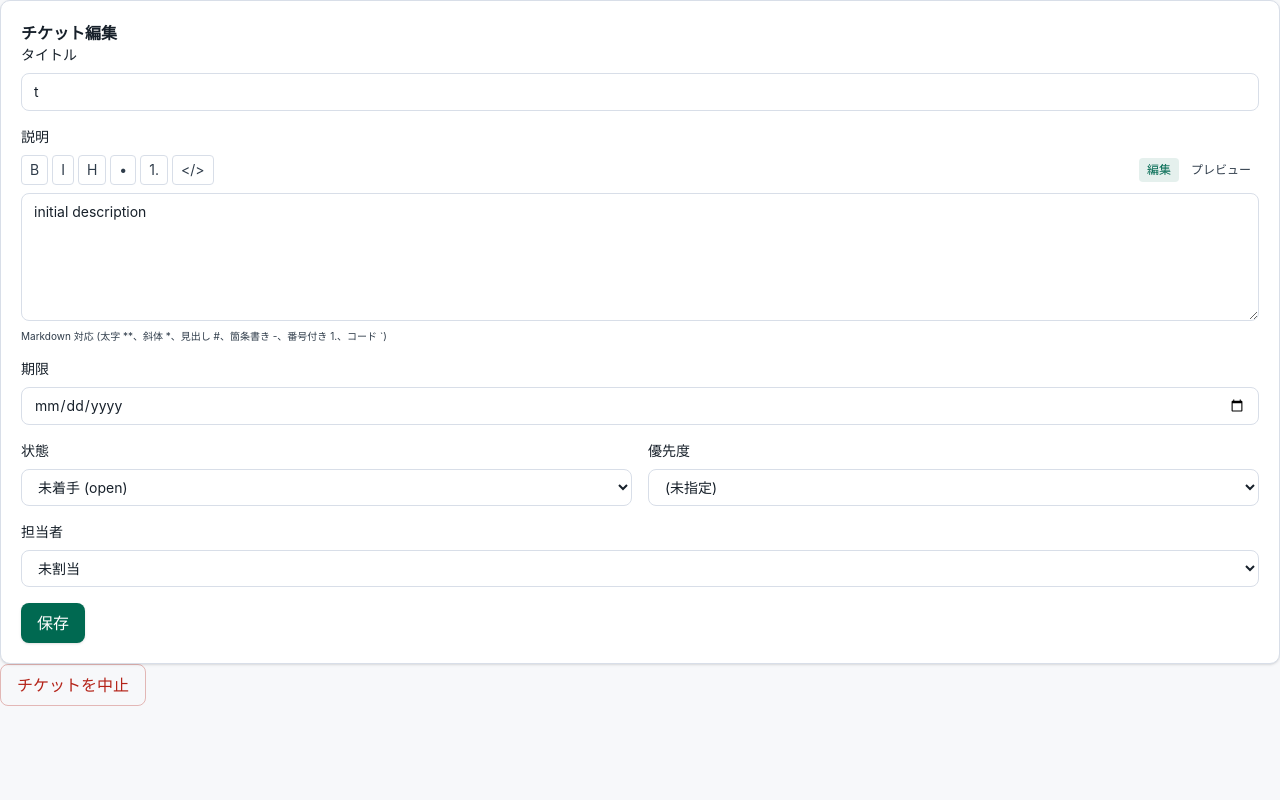
TicketDeleteButton (R3 F-2: pre-commit gate) › R14: 承認後に draft を編集 (in-flight) → commit skip → 遷移前再確認を拒否で router.push しない
The width and height of the screenshot is (1280, 800).
Replace the text in the text box named "説明" with "approved draft" at (640, 257), box [21,193,1259,321]
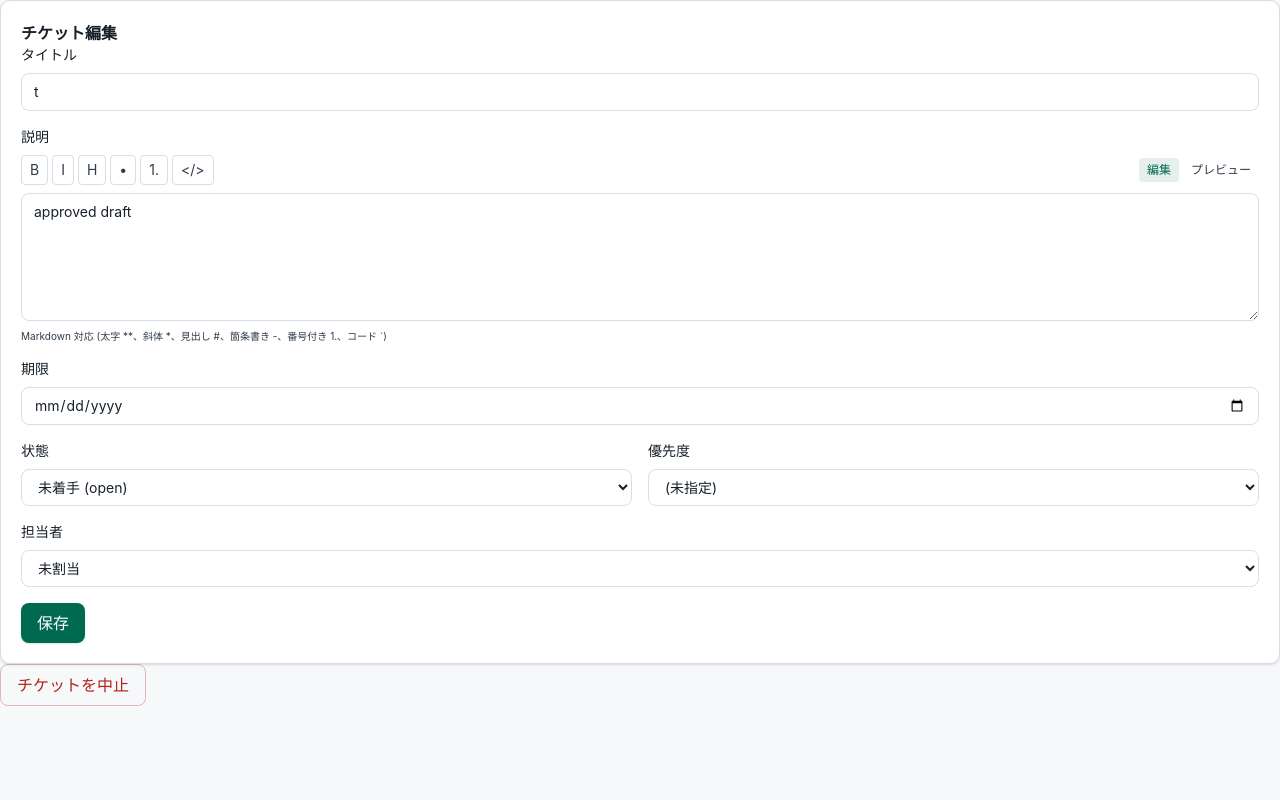
Click the button "チケットを中止" at (73, 685), box [0,664,146,706]
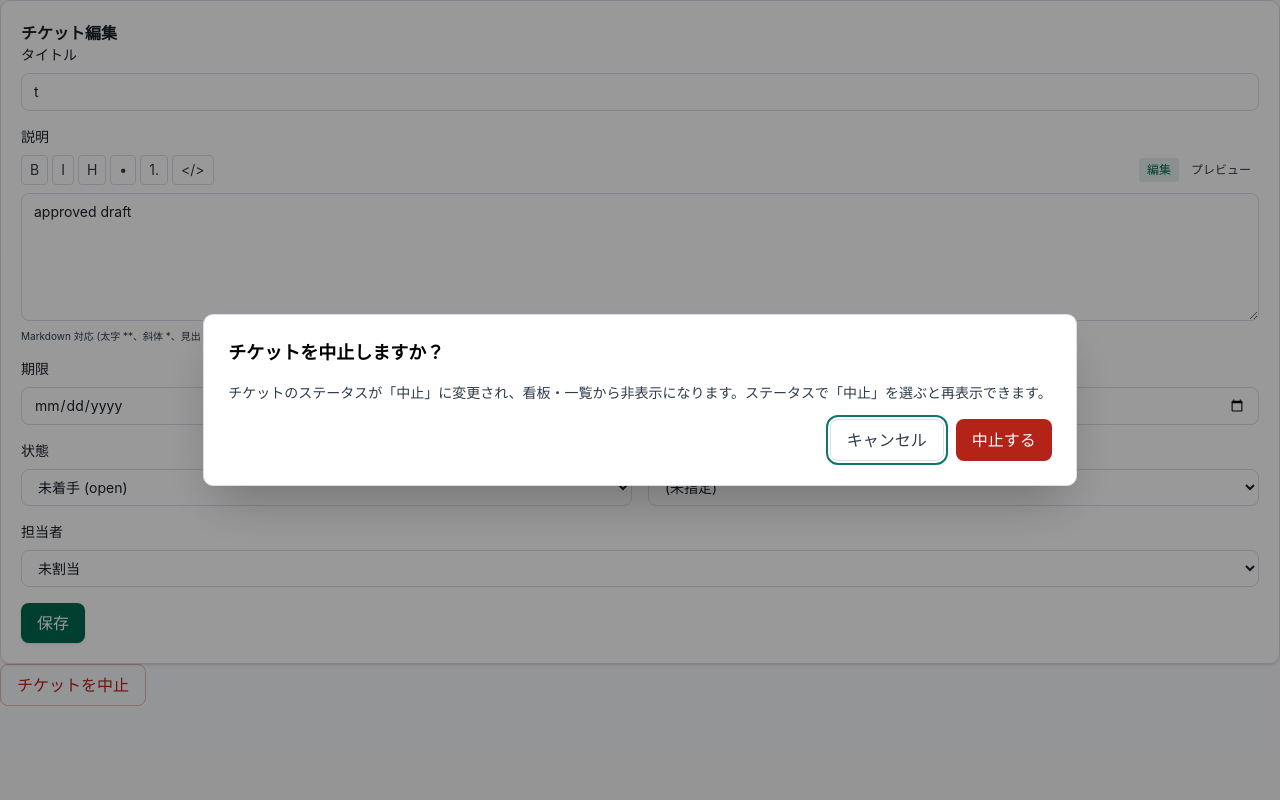
Click the button "中止する" at (1004, 440), box [956,419,1052,461]
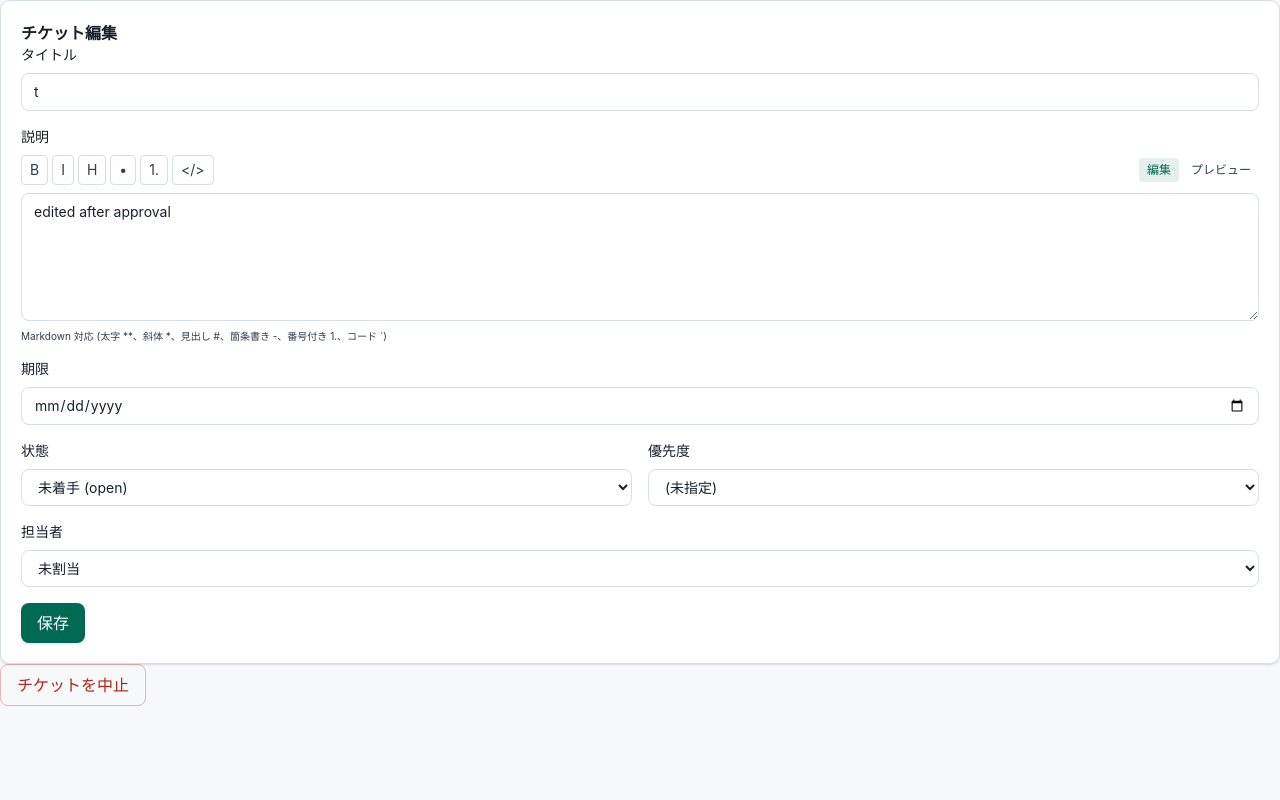
Expected: the text box named "説明" holds "edited after approval", [21,193,1259,321]
